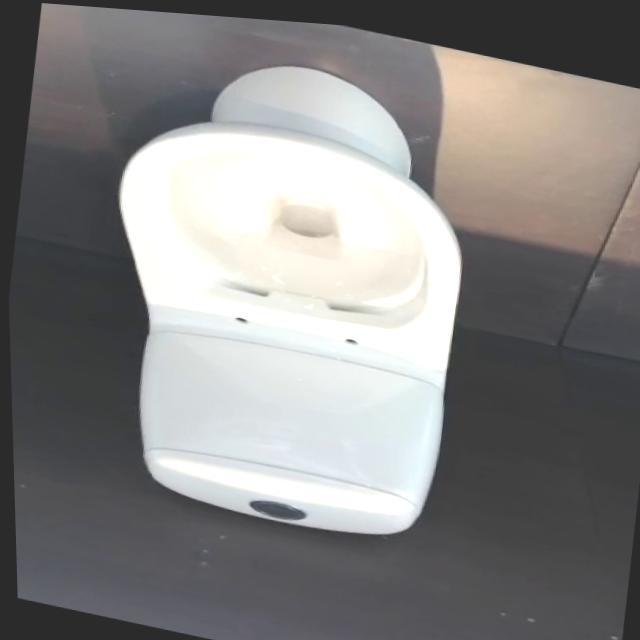toilet: (73, 26, 492, 553)
